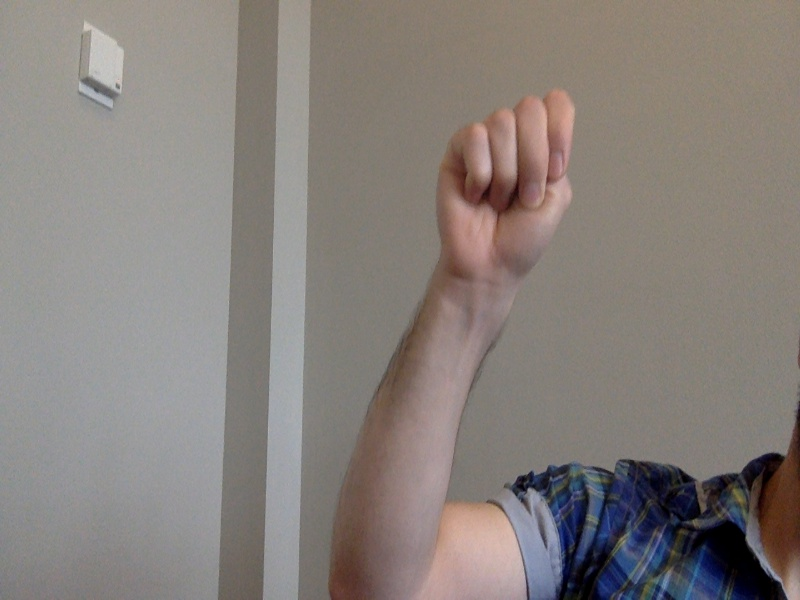0-hand: (435, 88, 577, 298)
